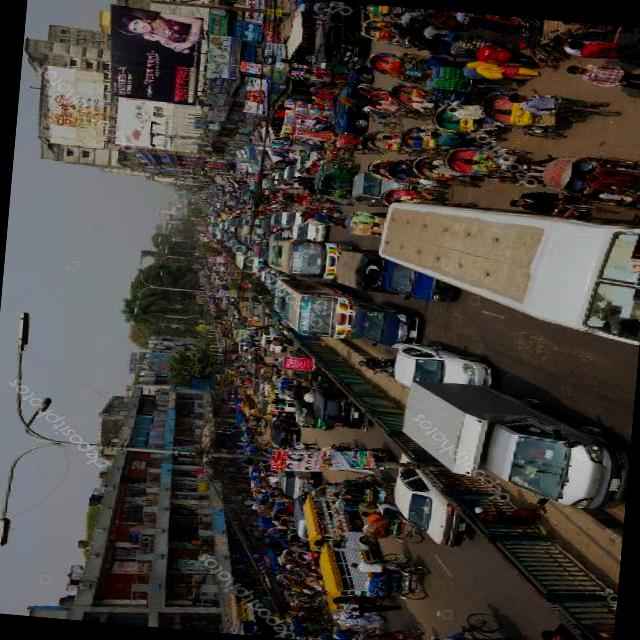bus: (370, 199, 640, 308), (499, 215, 640, 346), (320, 528, 374, 614), (300, 481, 362, 554), (261, 234, 352, 280), (265, 384, 295, 413), (233, 255, 258, 272), (238, 224, 248, 236), (219, 212, 232, 221), (206, 224, 216, 234), (208, 214, 218, 223)
car: (331, 243, 460, 303), (386, 468, 469, 548), (385, 341, 489, 393), (310, 0, 372, 68), (346, 302, 421, 352), (328, 62, 374, 136), (350, 167, 410, 208), (290, 481, 325, 542), (276, 467, 318, 501), (266, 415, 298, 449), (291, 147, 320, 177), (288, 222, 328, 243), (258, 328, 284, 354), (262, 271, 292, 292), (278, 208, 306, 228), (244, 294, 264, 318), (250, 372, 270, 392), (233, 334, 253, 354), (280, 163, 300, 183), (242, 355, 262, 374), (267, 228, 289, 245), (259, 216, 281, 233), (270, 170, 288, 188), (255, 390, 269, 412), (256, 267, 275, 283), (267, 211, 286, 227), (238, 348, 256, 362), (244, 236, 257, 248), (232, 198, 244, 209), (225, 306, 238, 316), (213, 262, 224, 272), (221, 224, 234, 232), (208, 274, 218, 282), (226, 236, 236, 242)
motorcycle: (476, 83, 620, 144), (544, 149, 640, 208), (428, 605, 545, 640), (441, 138, 528, 184), (428, 98, 507, 143), (360, 550, 427, 602), (358, 494, 424, 544), (408, 146, 481, 188), (377, 183, 473, 214), (364, 47, 423, 84), (335, 471, 390, 506), (394, 124, 454, 155), (312, 159, 358, 199), (358, 18, 410, 48), (360, 89, 414, 117), (386, 83, 436, 113), (332, 128, 382, 156), (363, 127, 410, 154), (351, 622, 421, 640), (310, 139, 351, 168), (288, 403, 329, 430), (349, 353, 391, 378), (353, 4, 404, 19), (290, 622, 321, 640), (333, 500, 370, 514), (302, 203, 340, 216), (315, 61, 349, 74), (330, 626, 361, 640), (292, 548, 318, 564), (298, 574, 320, 592), (270, 500, 292, 518), (258, 310, 280, 328), (256, 362, 280, 378), (299, 559, 321, 575), (310, 118, 332, 134), (238, 422, 263, 436), (245, 416, 267, 431), (266, 334, 292, 346), (276, 190, 298, 204), (248, 345, 273, 357), (298, 161, 314, 179), (246, 439, 264, 454), (310, 1, 327, 16), (264, 486, 280, 501), (242, 325, 262, 337), (280, 570, 294, 586), (275, 516, 291, 530), (261, 470, 277, 484), (261, 200, 282, 210), (283, 530, 296, 546), (248, 476, 264, 489), (253, 505, 270, 517), (276, 552, 292, 564), (315, 630, 334, 640), (259, 446, 275, 456), (267, 526, 283, 536), (235, 386, 252, 395), (246, 407, 262, 416), (253, 458, 270, 466), (269, 190, 282, 200), (245, 431, 262, 438), (237, 378, 250, 387), (234, 369, 247, 378), (255, 490, 265, 501), (221, 326, 232, 334), (229, 356, 239, 364), (250, 226, 260, 234), (218, 315, 228, 322), (249, 218, 259, 225)
truck: (389, 377, 632, 512), (307, 378, 374, 429), (280, 346, 316, 384), (224, 368, 236, 379)
